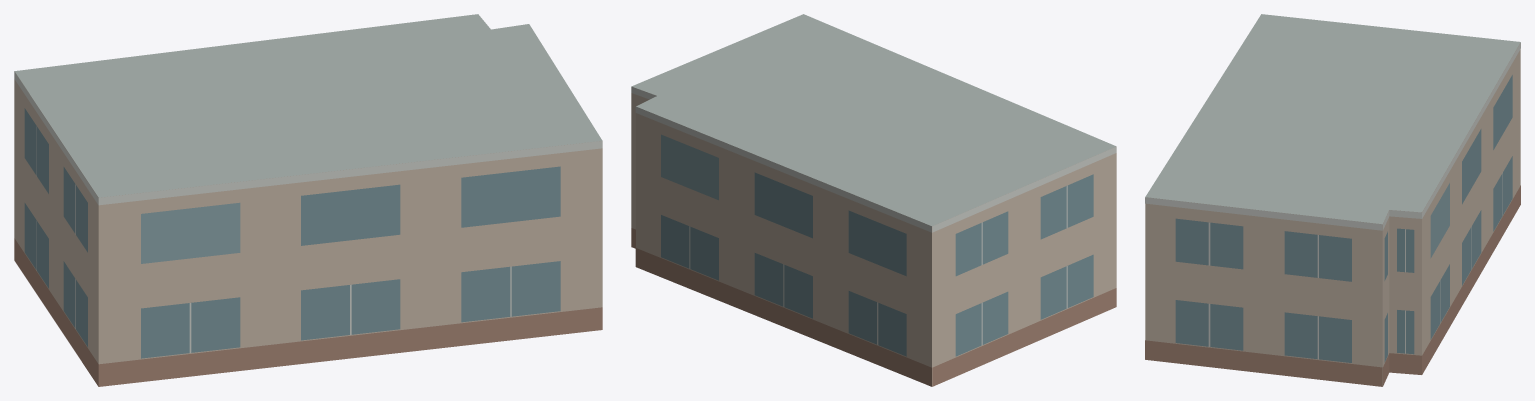
File: survey-upis-32990090.glb
The picture shows the model from 3 angles, left to right: view 1: azimuth 30°, elevation 25°; view 2: azimuth 150°, elevation 25°; view 3: azimuth 270°, elevation 25°; orthographic projection. The views are drawn at different scales.
Parts seen in each view (by area): view 1: survey-upis-32990090.tmp; view 2: survey-upis-32990090.tmp; view 3: survey-upis-32990090.tmp.
Boxes of the visible parts, x1,y1,x2,y2 form: survey-upis-32990090.tmp: (14, 14, 602, 386); survey-upis-32990090.tmp: (631, 14, 1116, 386); survey-upis-32990090.tmp: (1145, 14, 1520, 386).
Bounding box in the file's own units: 16.92 × 6.1 × 12.78.
